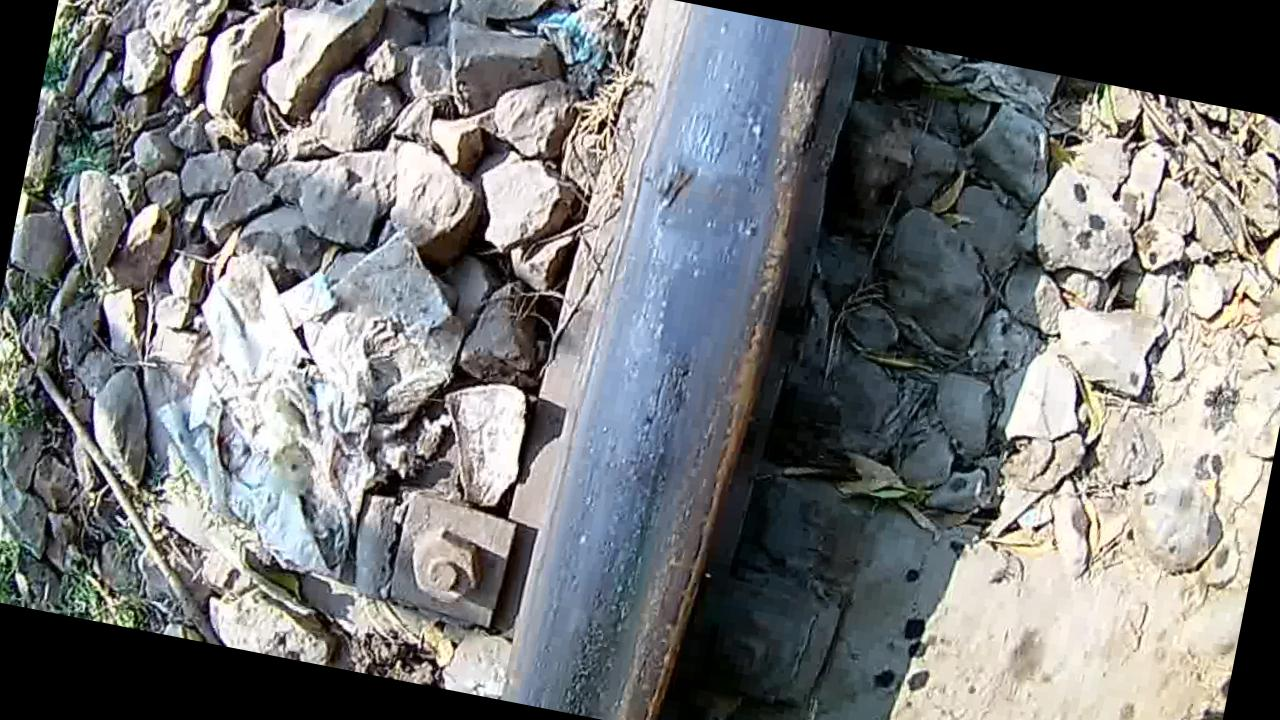bolt_missing: (538, 10, 832, 655)
